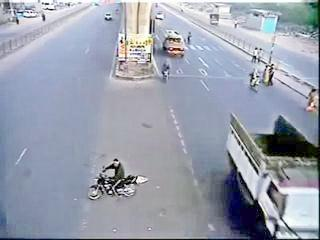Motor: (90, 146, 149, 206)
